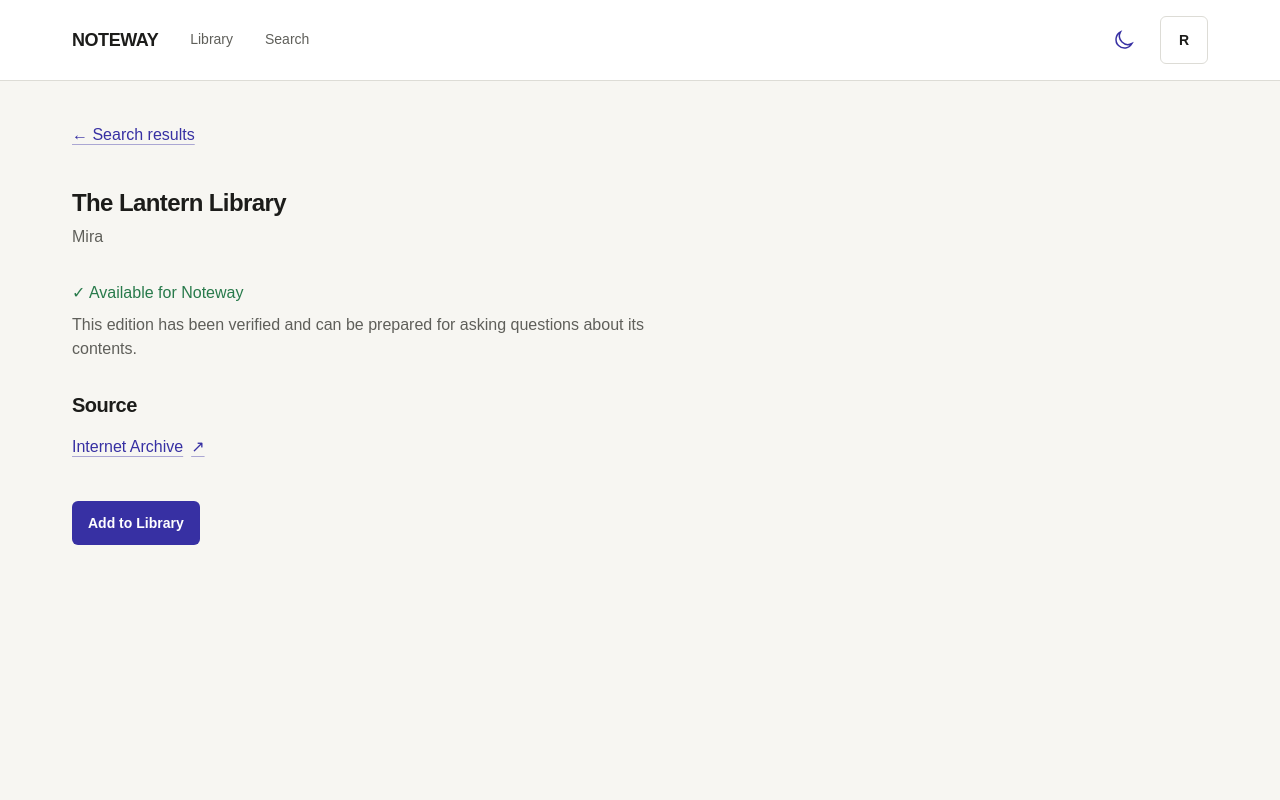
Scenario: keeps book context and offers retry after an add fails
This screenshot has width=1280, height=800.
What coordinates should you click on to do the following:
click the button "Add to Library"
I would click on:
 (136, 523)
Its box is top-left (72, 501), bottom-right (200, 545).
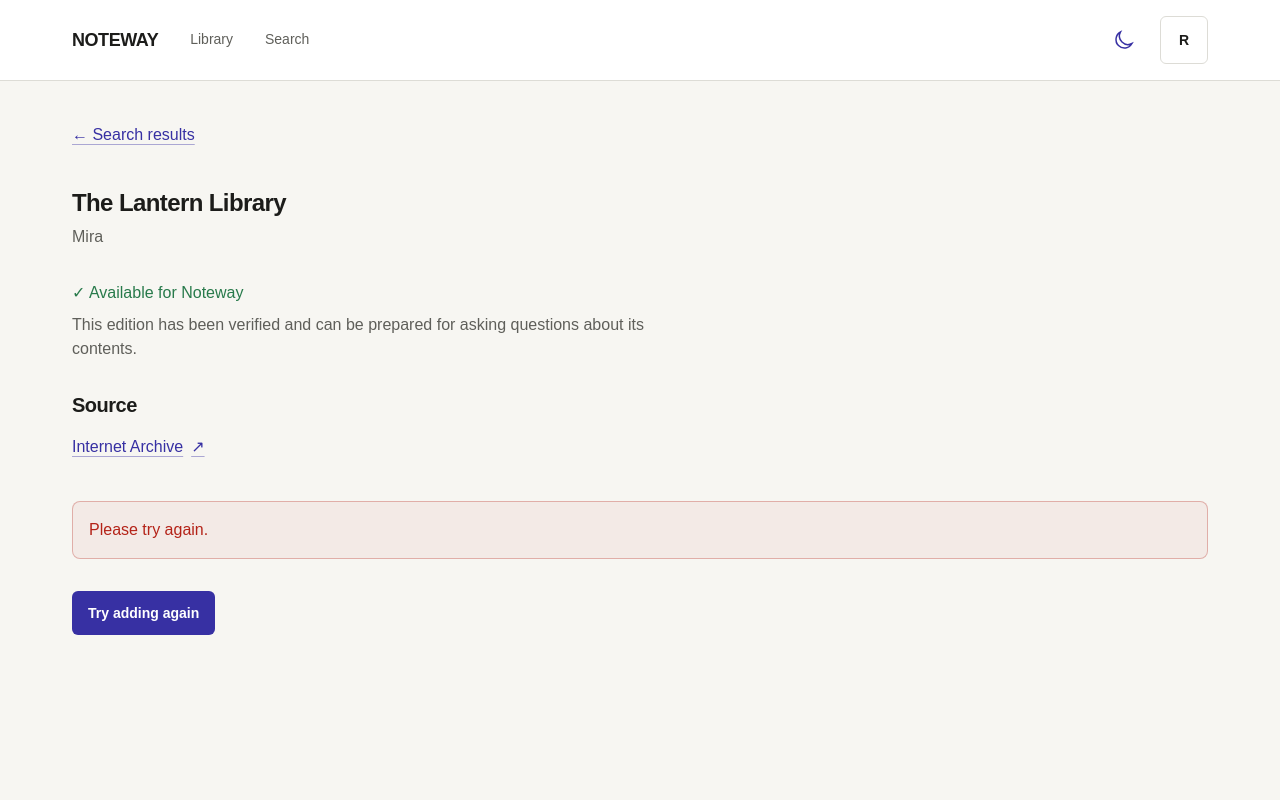
Check: the heading "The Lantern Library" is shown, box top-left (72, 189), bottom-right (286, 216)
Check: the message "Please try again." is shown, box top-left (72, 501), bottom-right (1208, 559)
Check: the button "Try adding again" is shown, box top-left (72, 591), bottom-right (215, 635)
